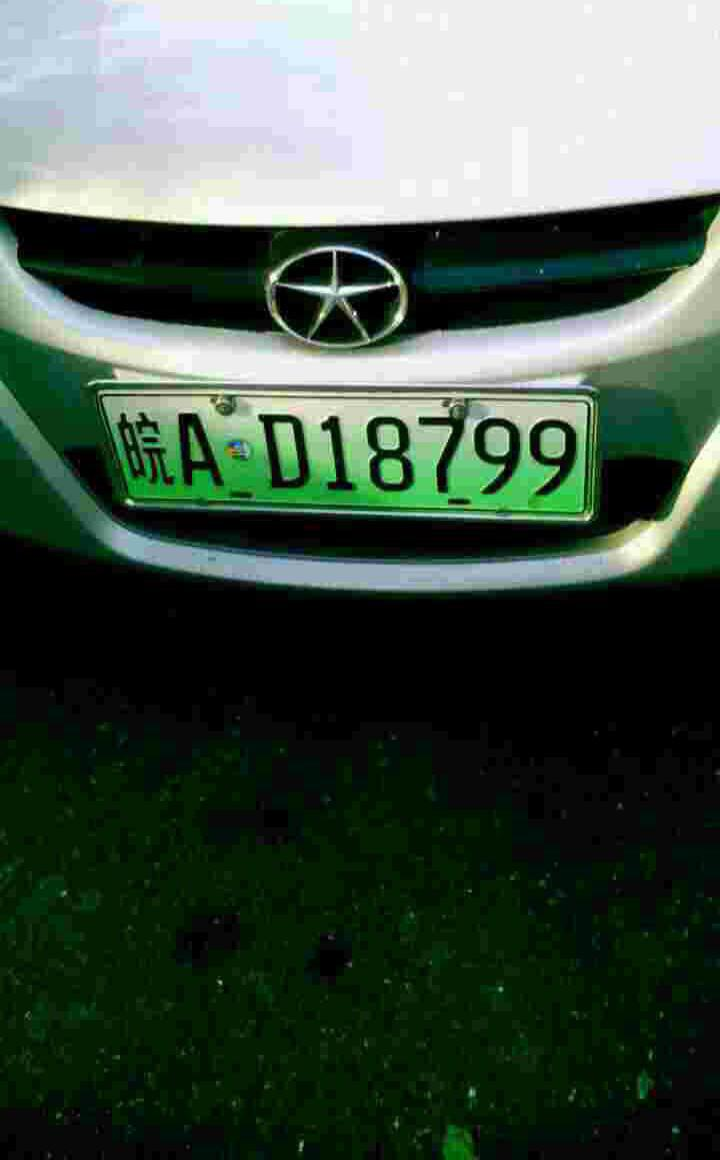car: (92, 378, 596, 533)
